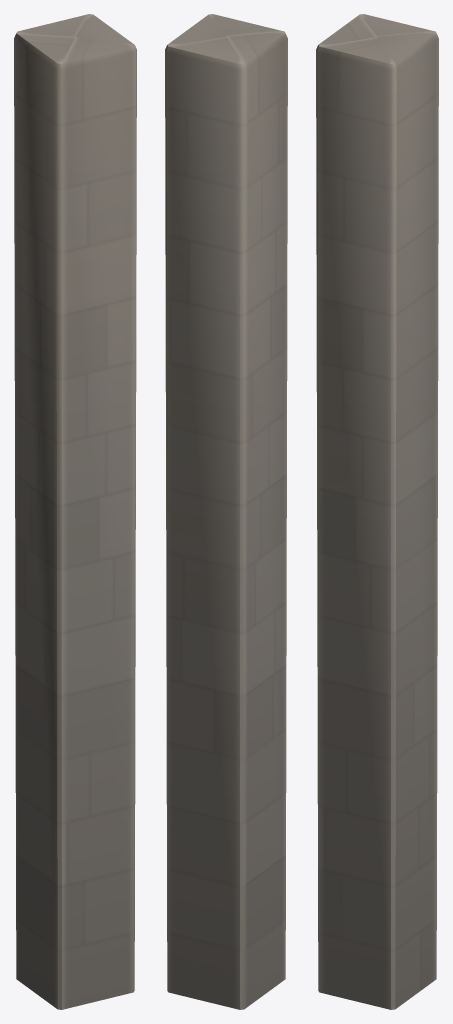
The model's file is ext_6x6.glb.
3 renders of one model, left to right at view 1: azimuth 30°, elevation 25°; view 2: azimuth 150°, elevation 25°; view 3: azimuth 330°, elevation 25°, orthographic.
Parts seen in each view (by area): view 1: ext_6x6.001; view 2: ext_6x6.001; view 3: ext_6x6.001.
Part boxes in pixels (<box>): ext_6x6.001: <box>14,14,136,1009</box>; ext_6x6.001: <box>165,14,287,1009</box>; ext_6x6.001: <box>316,14,438,1009</box>.
Bounding box in the file's own units: 3.55 × 40 × 3.55.
1 material, 1 textured.
